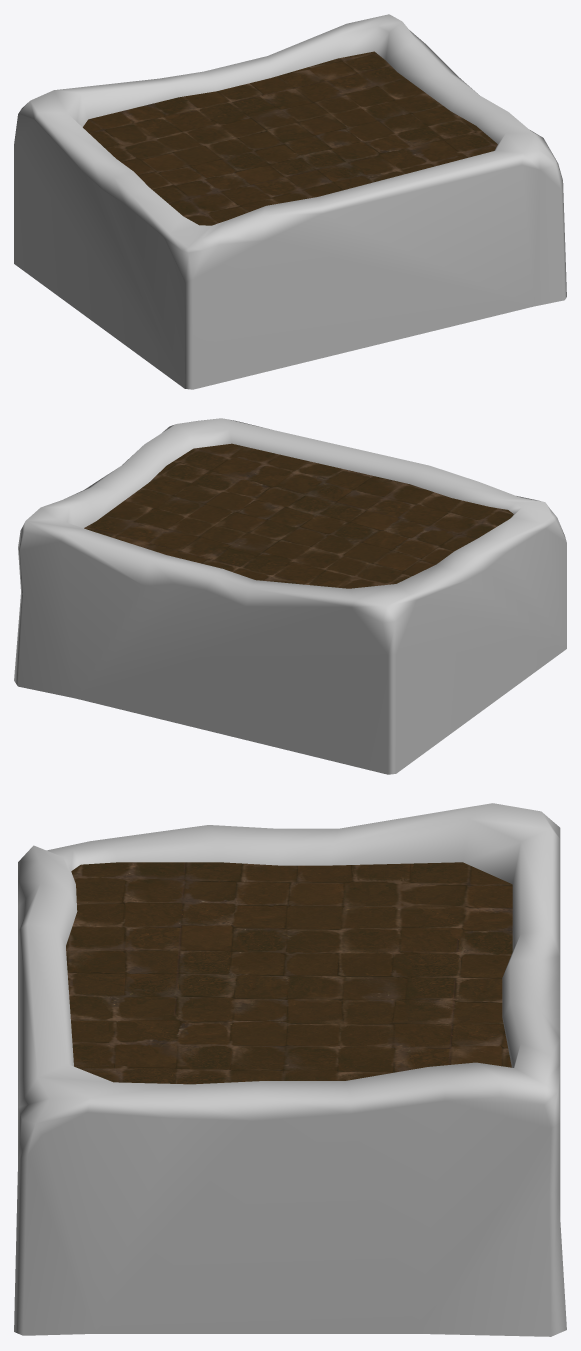
File: lower_city_house_flat_building_01.fbx
3 views of the same model, one above another, from view 1: azimuth 30°, elevation 25°; view 2: azimuth 150°, elevation 25°; view 3: azimuth 270°, elevation 25° (orthographic). The views are drawn at different scales.
Visible parts, largest first — view 1: lower_city_house_flat_building_01; view 2: lower_city_house_flat_building_01; view 3: lower_city_house_flat_building_01.
Part boxes in pixels (x1,y1,x2,y2): lower_city_house_flat_building_01: (14, 14, 566, 389); lower_city_house_flat_building_01: (14, 418, 566, 774); lower_city_house_flat_building_01: (14, 803, 566, 1336).
Size of the model in its own units: 4.07 by 1.67 by 3.32.
